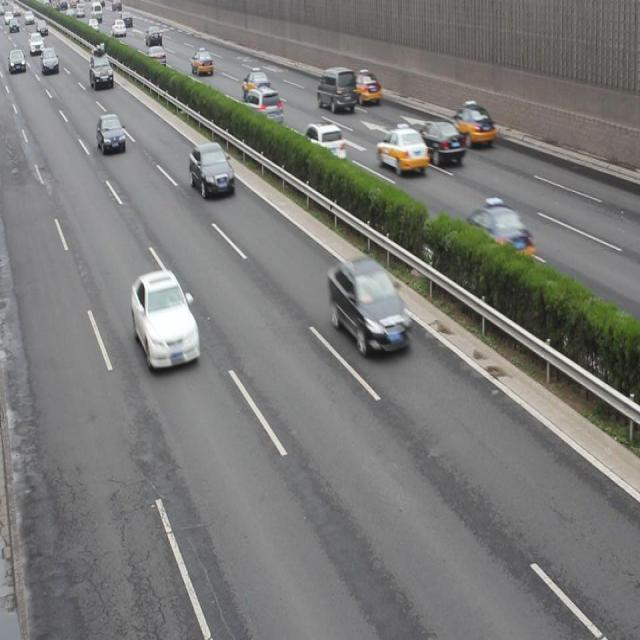car: (327, 254, 409, 354), (131, 268, 199, 373), (457, 204, 532, 265), (188, 142, 234, 201), (375, 126, 429, 176), (416, 119, 466, 165), (300, 121, 345, 169), (446, 106, 495, 148), (241, 86, 282, 132), (96, 112, 126, 156), (350, 68, 381, 106), (242, 68, 271, 100)
truck: (316, 65, 356, 114)
